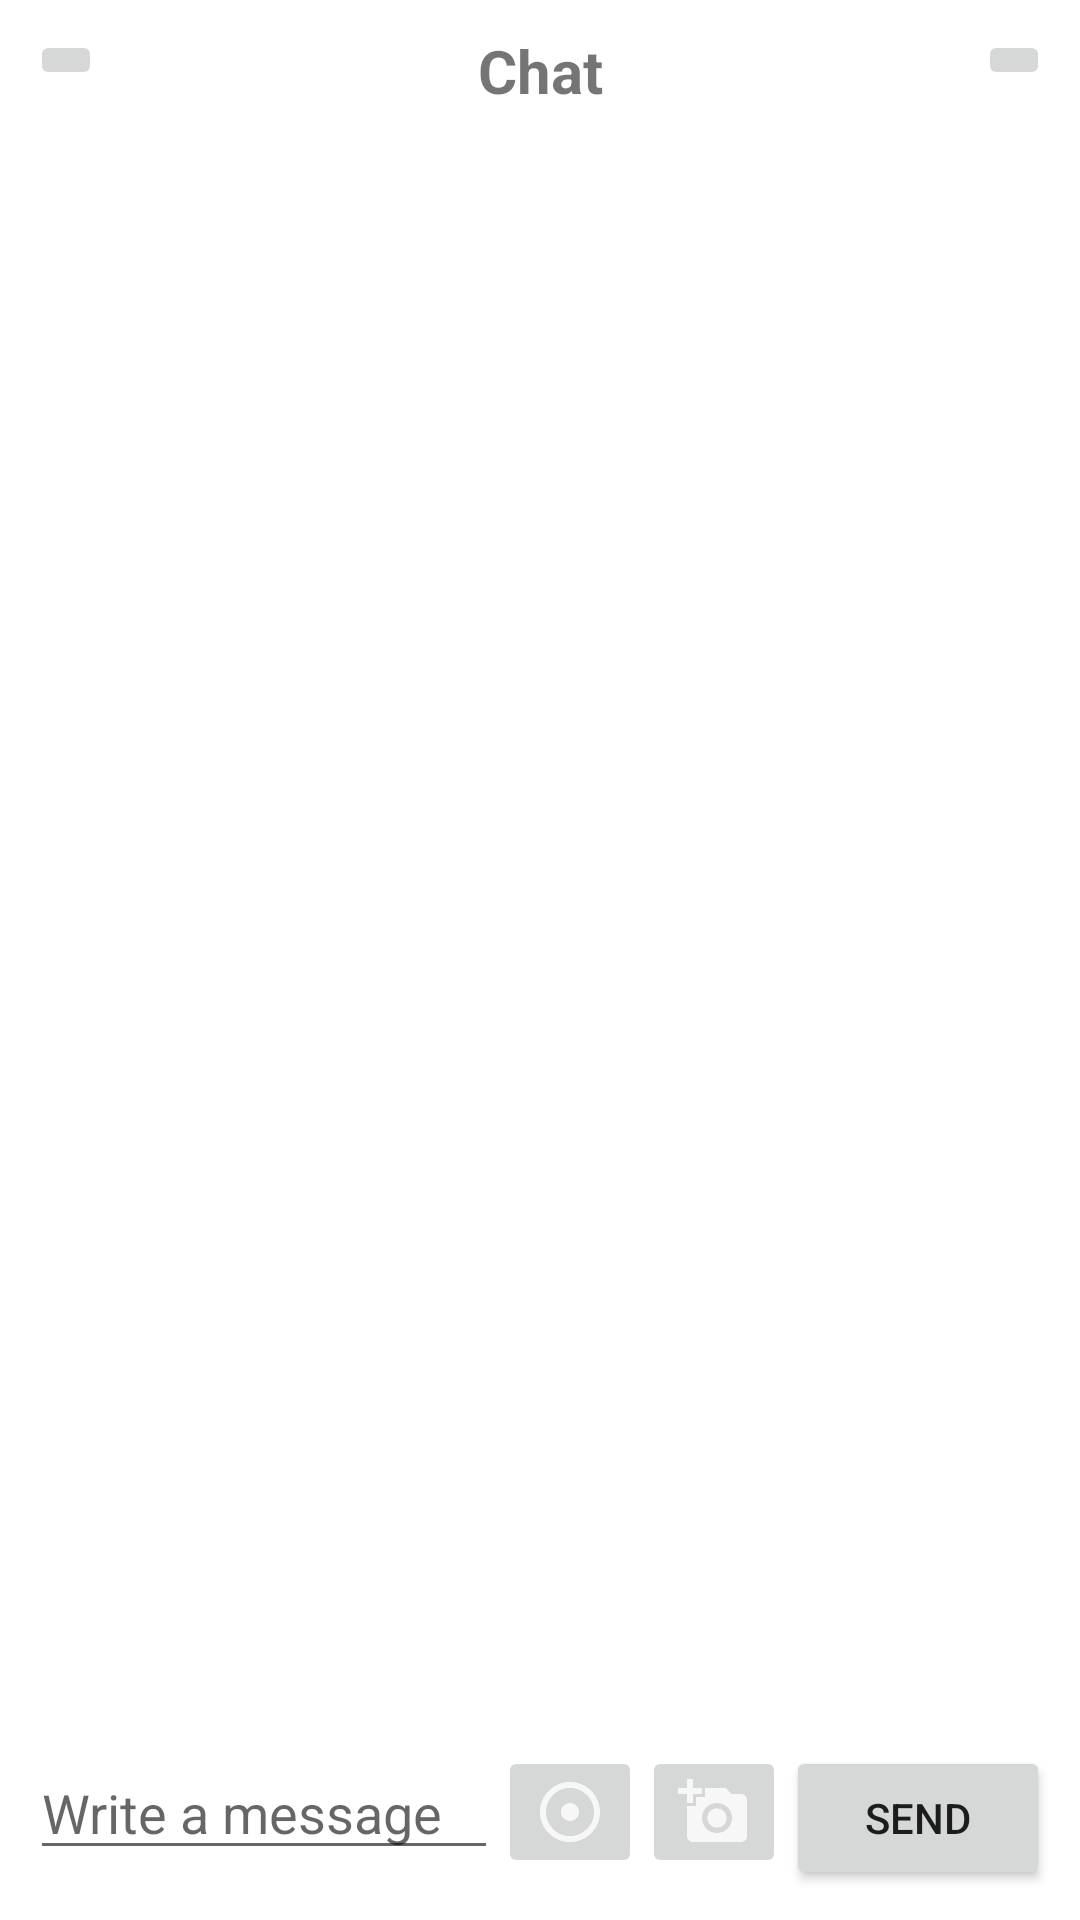

Screen size 1080 x 1920. Icon name, then its center in pixels as point (x, y):
camera: point (714, 1812)
